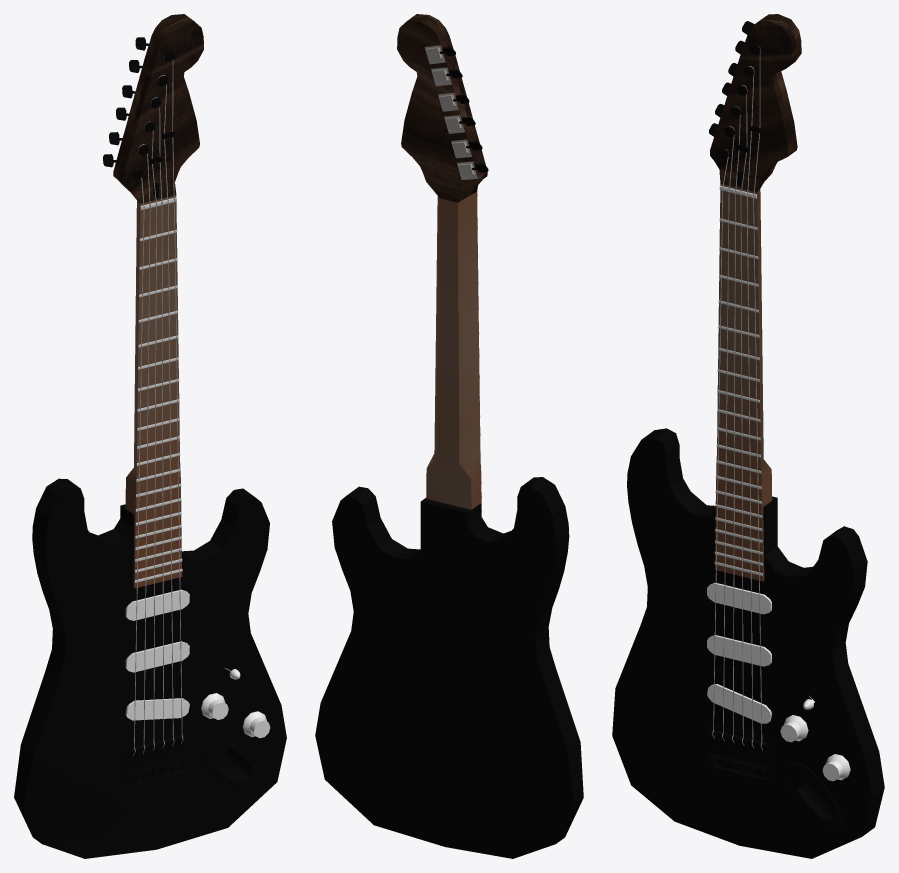
The model's file is guitar-electric.glb.
3 views of the same model, side by side, from view 1: azimuth 30°, elevation 25°; view 2: azimuth 150°, elevation 25°; view 3: azimuth 330°, elevation 25° (orthographic).
Visible parts, largest first — view 1: pPlane5, polySurface1, polySurface2, pPlane6, pCube26, pCube24, pCube25, pCube23, pCylinder13, pCylinder12, pCylinder11, pCylinder10 (+4 smaller); view 2: pPlane5, polySurface1, polySurface2; view 3: pPlane5, polySurface1, polySurface2, pPlane6, pCube26, pCube25, pCube24, pCube23, pCylinder13, pCylinder11, pCylinder12, pCylinder10 (+4 smaller).
Part boxes in pixels (box(x1,y1,x2,y2)): pPlane5: box(14, 478, 286, 858); polySurface1: box(125, 195, 182, 588); polySurface2: box(113, 14, 203, 203); pPlane6: box(202, 739, 258, 785); pCube26: box(122, 728, 192, 784); pCube24: box(125, 641, 189, 672); pCube25: box(125, 698, 189, 720); pCube23: box(125, 589, 189, 620); pCylinder13: box(164, 56, 183, 743); pCylinder12: box(158, 75, 174, 745); pCylinder11: box(151, 97, 164, 748); pCylinder10: box(144, 121, 156, 750); pPlane5: box(315, 477, 583, 858); polySurface1: box(426, 192, 481, 516); polySurface2: box(397, 14, 487, 202); pPlane5: box(612, 428, 884, 858); polySurface1: box(715, 183, 772, 581); polySurface2: box(710, 14, 801, 192); pPlane6: box(786, 762, 842, 827); pCube26: box(704, 723, 774, 780); pCube25: box(707, 684, 771, 723); pCube24: box(707, 635, 771, 666); pCube23: box(707, 582, 771, 614); pCylinder13: box(753, 46, 762, 750); pCylinder11: box(740, 85, 747, 745); pCylinder12: box(746, 66, 754, 748); pCylinder10: box(732, 106, 740, 743).
Size of the model in its own units: 11.36 by 34.22 by 1.76.
Materials: 7 (7 with a texture image).
